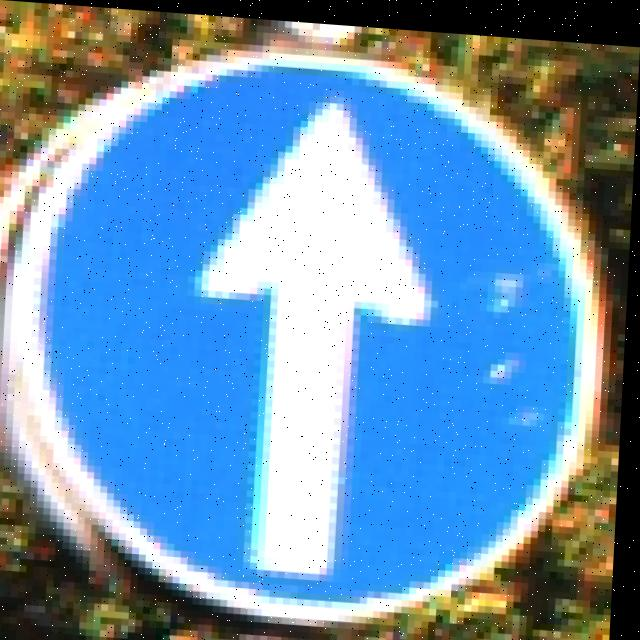compulsory_ahead: (2, 36, 633, 629)
